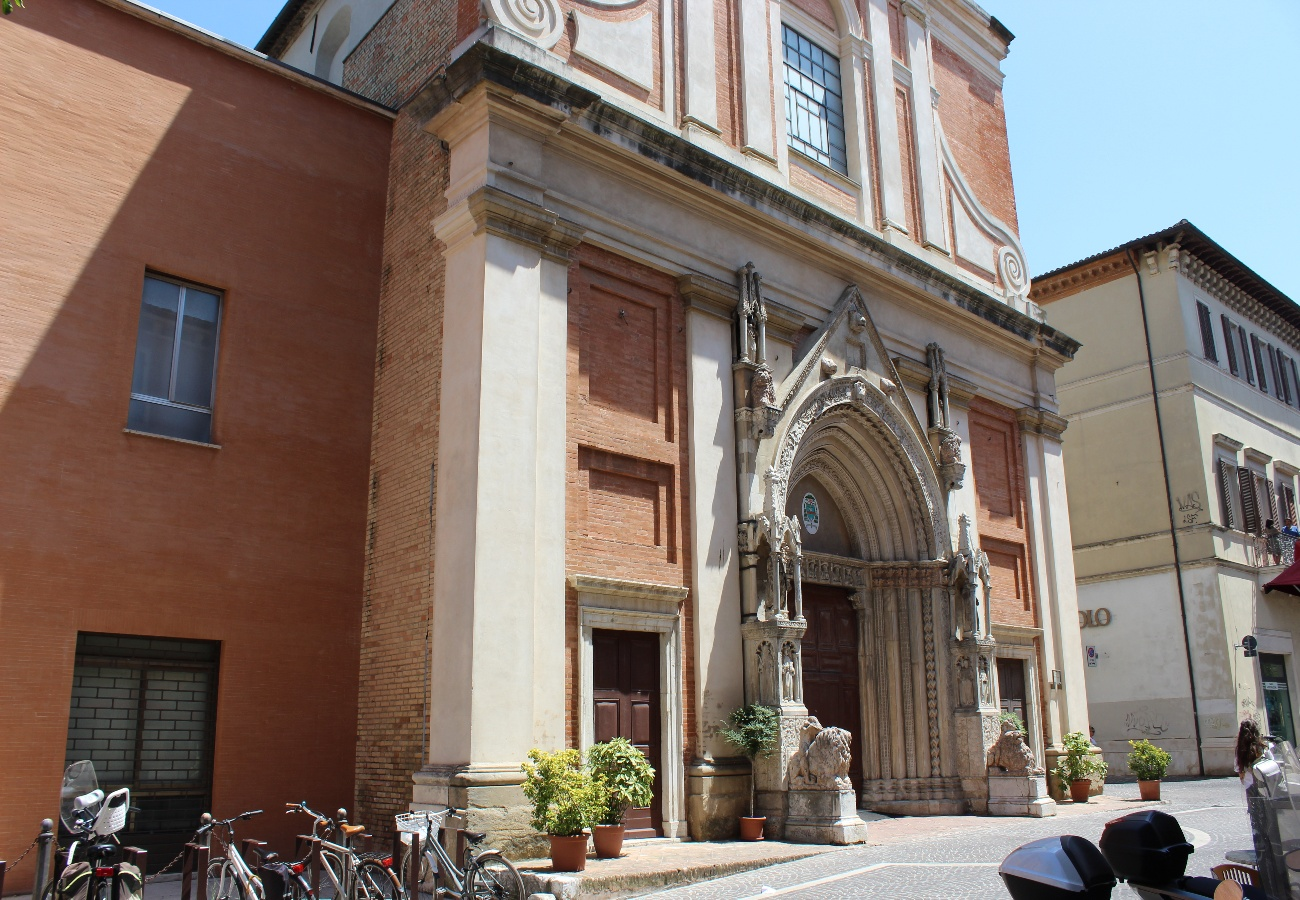Chiesa San Agostino: (334, 1, 1105, 824)
